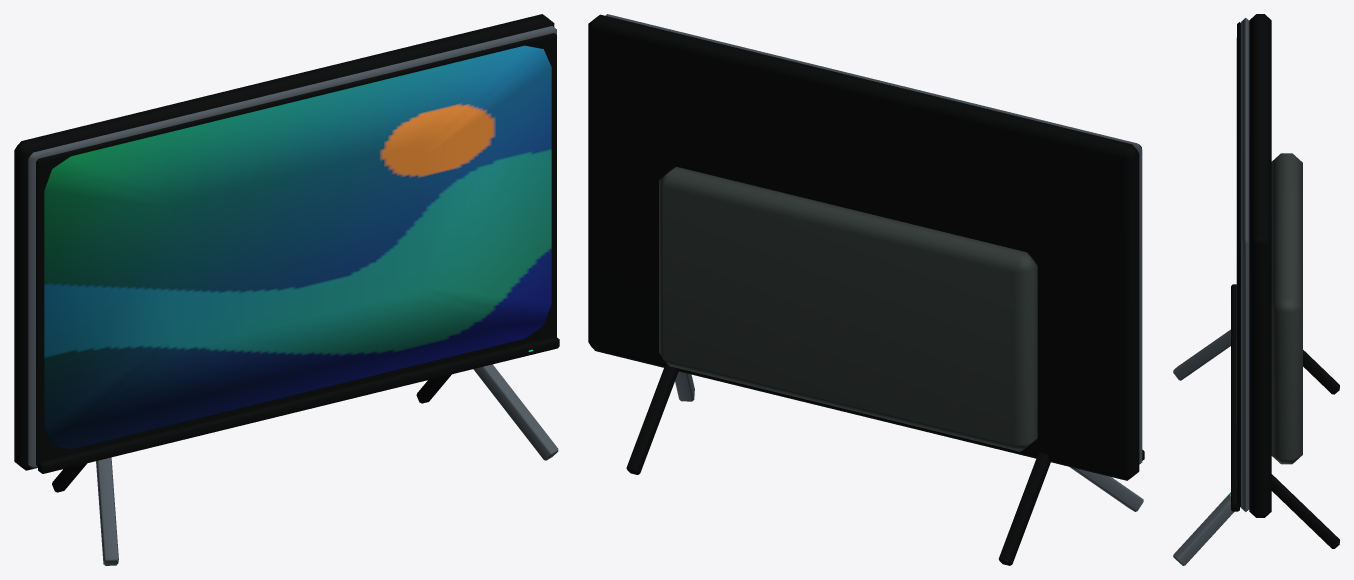
Rendered from Low-Poly_Slim_TV.glb.
The picture shows the model from 3 angles, left to right: view 1: azimuth 30°, elevation 25°; view 2: azimuth 150°, elevation 25°; view 3: azimuth 270°, elevation 25°; orthographic projection. The views are drawn at different scales.
Visible parts, largest first — view 1: unnamed; view 2: unnamed; view 3: unnamed.
Boxes of the visible parts, box(x1,y1,x2,y2) form: unnamed: box(14, 14, 559, 565); unnamed: box(588, 14, 1144, 565); unnamed: box(1173, 14, 1339, 565).
Size of the model in its own units: 0.91 by 0.6492 by 0.2827.
1 material, 1 textured.
